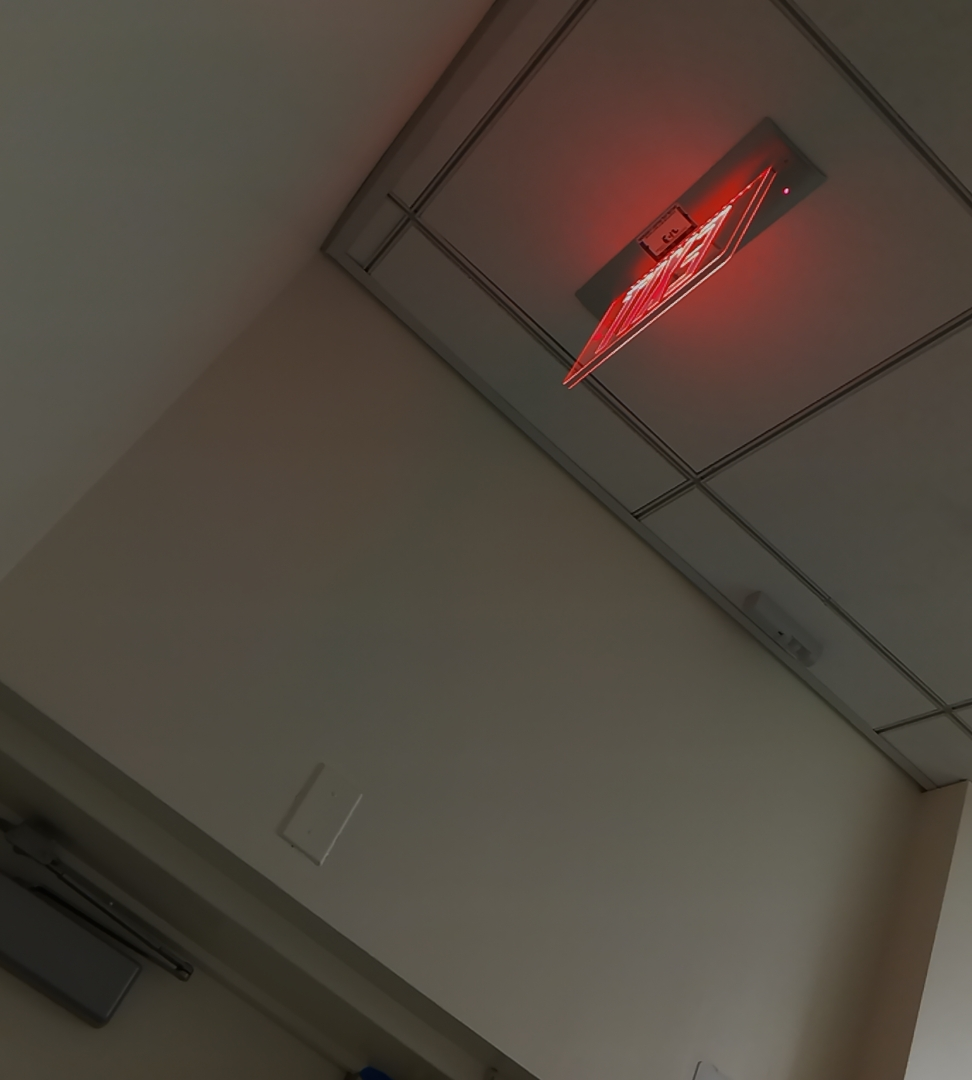emergency_exit: (558, 116, 827, 392), (559, 159, 781, 390)
